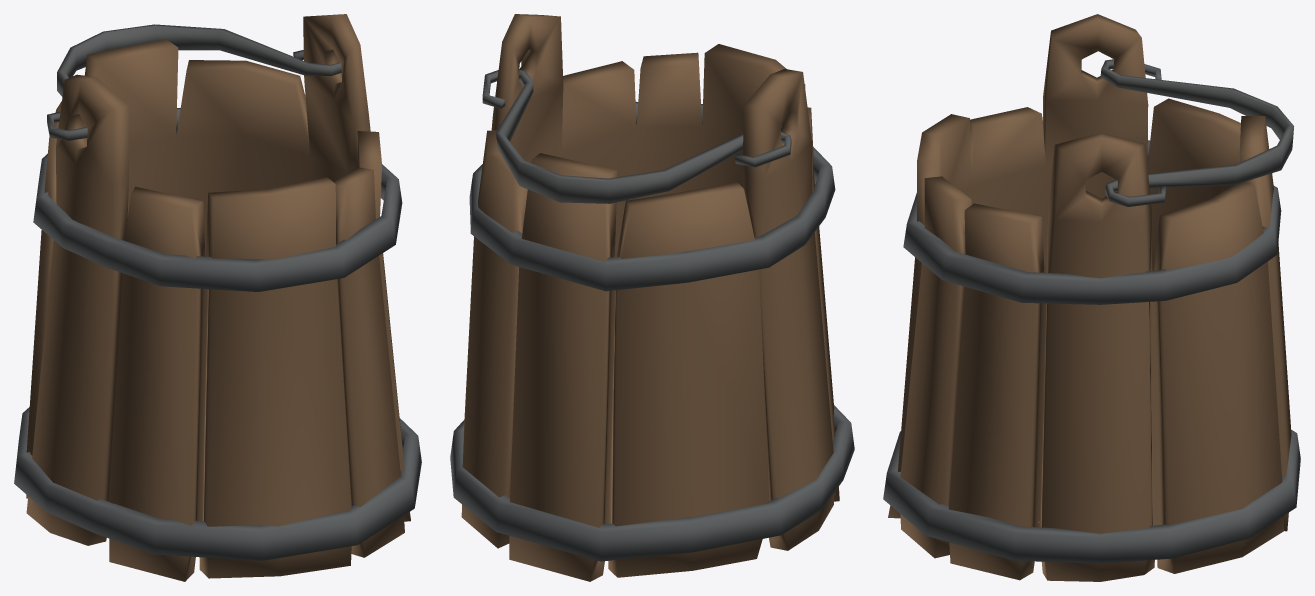
File: rpgpp_lt_bucket_01 -col.glb
3 renders of one model, left to right at view 1: azimuth 30°, elevation 25°; view 2: azimuth 150°, elevation 25°; view 3: azimuth 270°, elevation 25°, orthographic. The views are drawn at different scales.
Parts seen in each view (by area): view 1: rpgpp_lt_bucket_01 -col; view 2: rpgpp_lt_bucket_01 -col; view 3: rpgpp_lt_bucket_01 -col.
Boxes of the visible parts, x1,y1,x2,y2 form: rpgpp_lt_bucket_01 -col: (14,14,421,581); rpgpp_lt_bucket_01 -col: (450,14,854,581); rpgpp_lt_bucket_01 -col: (883,14,1300,581).
Size of the model in its own units: 0.5619 by 0.719 by 0.6231.
Materials: 1 (1 with a texture image).
